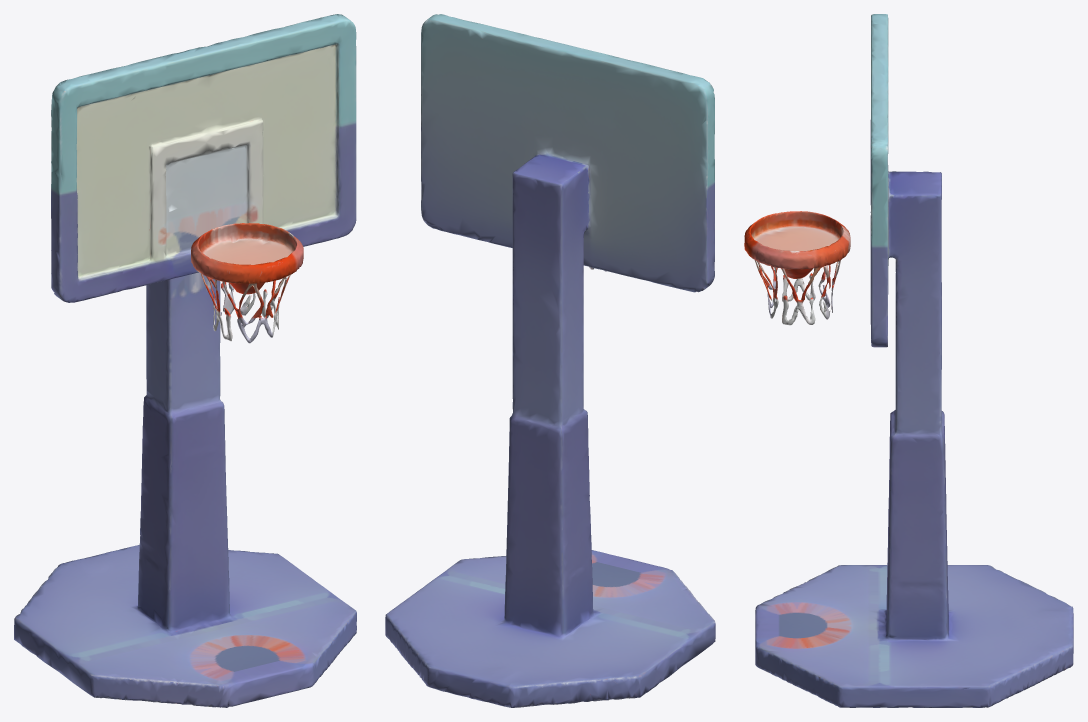
The model's file is basketball_hoop.glb.
The picture shows the model from 3 angles, left to right: view 1: azimuth 30°, elevation 25°; view 2: azimuth 150°, elevation 25°; view 3: azimuth 270°, elevation 25°; orthographic projection. The views are drawn at different scales.
Parts seen in each view (by area): view 1: model; view 2: model; view 3: model.
Boxes of the visible parts, bbox=[...] form: model: bbox=[14, 14, 356, 707]; model: bbox=[385, 14, 715, 707]; model: bbox=[744, 14, 1073, 707].
Size of the model in its own units: 0.986 by 1.9 by 0.9957.
Materials: 1 (1 with a texture image).
